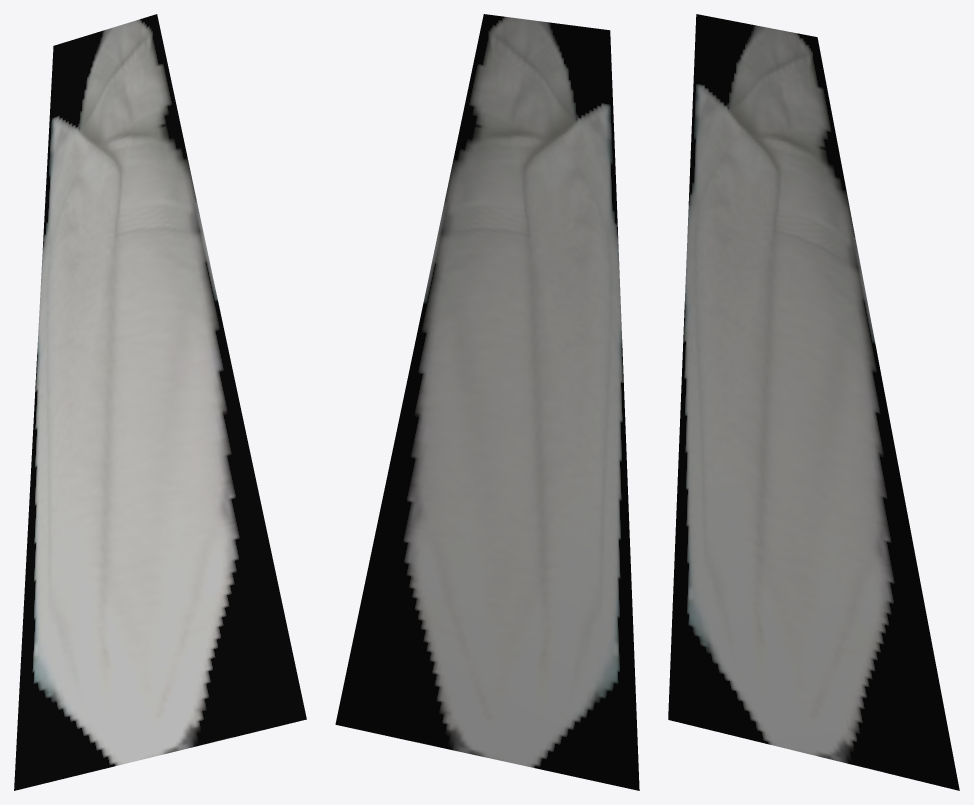
File: robeshanging.glb
3 views of the same model, side by side, from view 1: azimuth 30°, elevation 25°; view 2: azimuth 150°, elevation 25°; view 3: azimuth 330°, elevation 25° (orthographic). The views are drawn at different scales.
Visible parts, largest first — view 1: robeshanging; view 2: robeshanging; view 3: robeshanging.
Part boxes in pixels (x1,y1,x2,y2): robeshanging: [14, 14, 306, 790]; robeshanging: [335, 14, 639, 790]; robeshanging: [668, 14, 959, 790].
Size of the model in its own units: 0.0435 by 0.1043 by 0.00273.
1 material, 1 textured.
